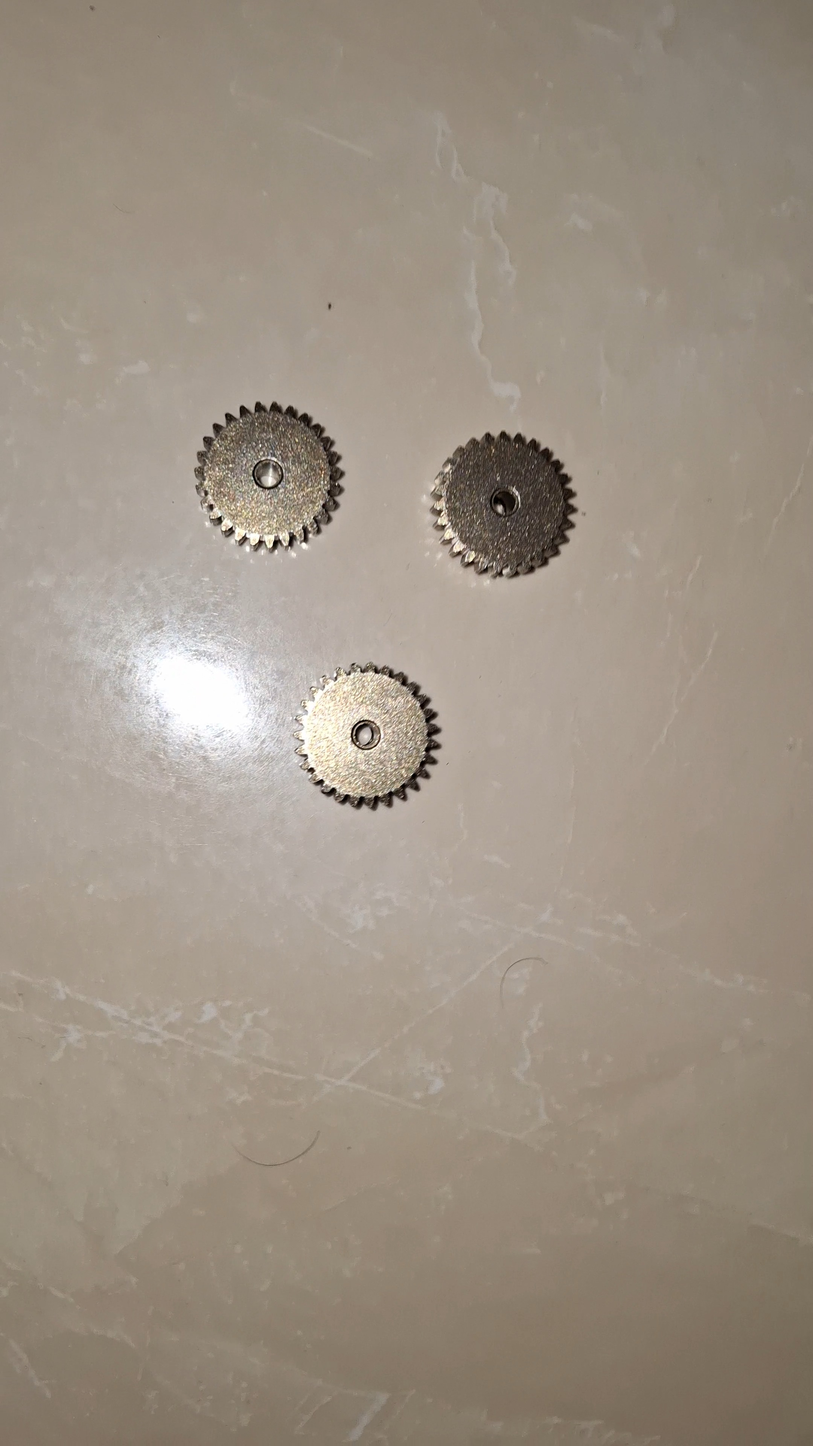spur gear: (195, 402, 341, 549), (294, 664, 438, 806), (433, 432, 575, 576)
